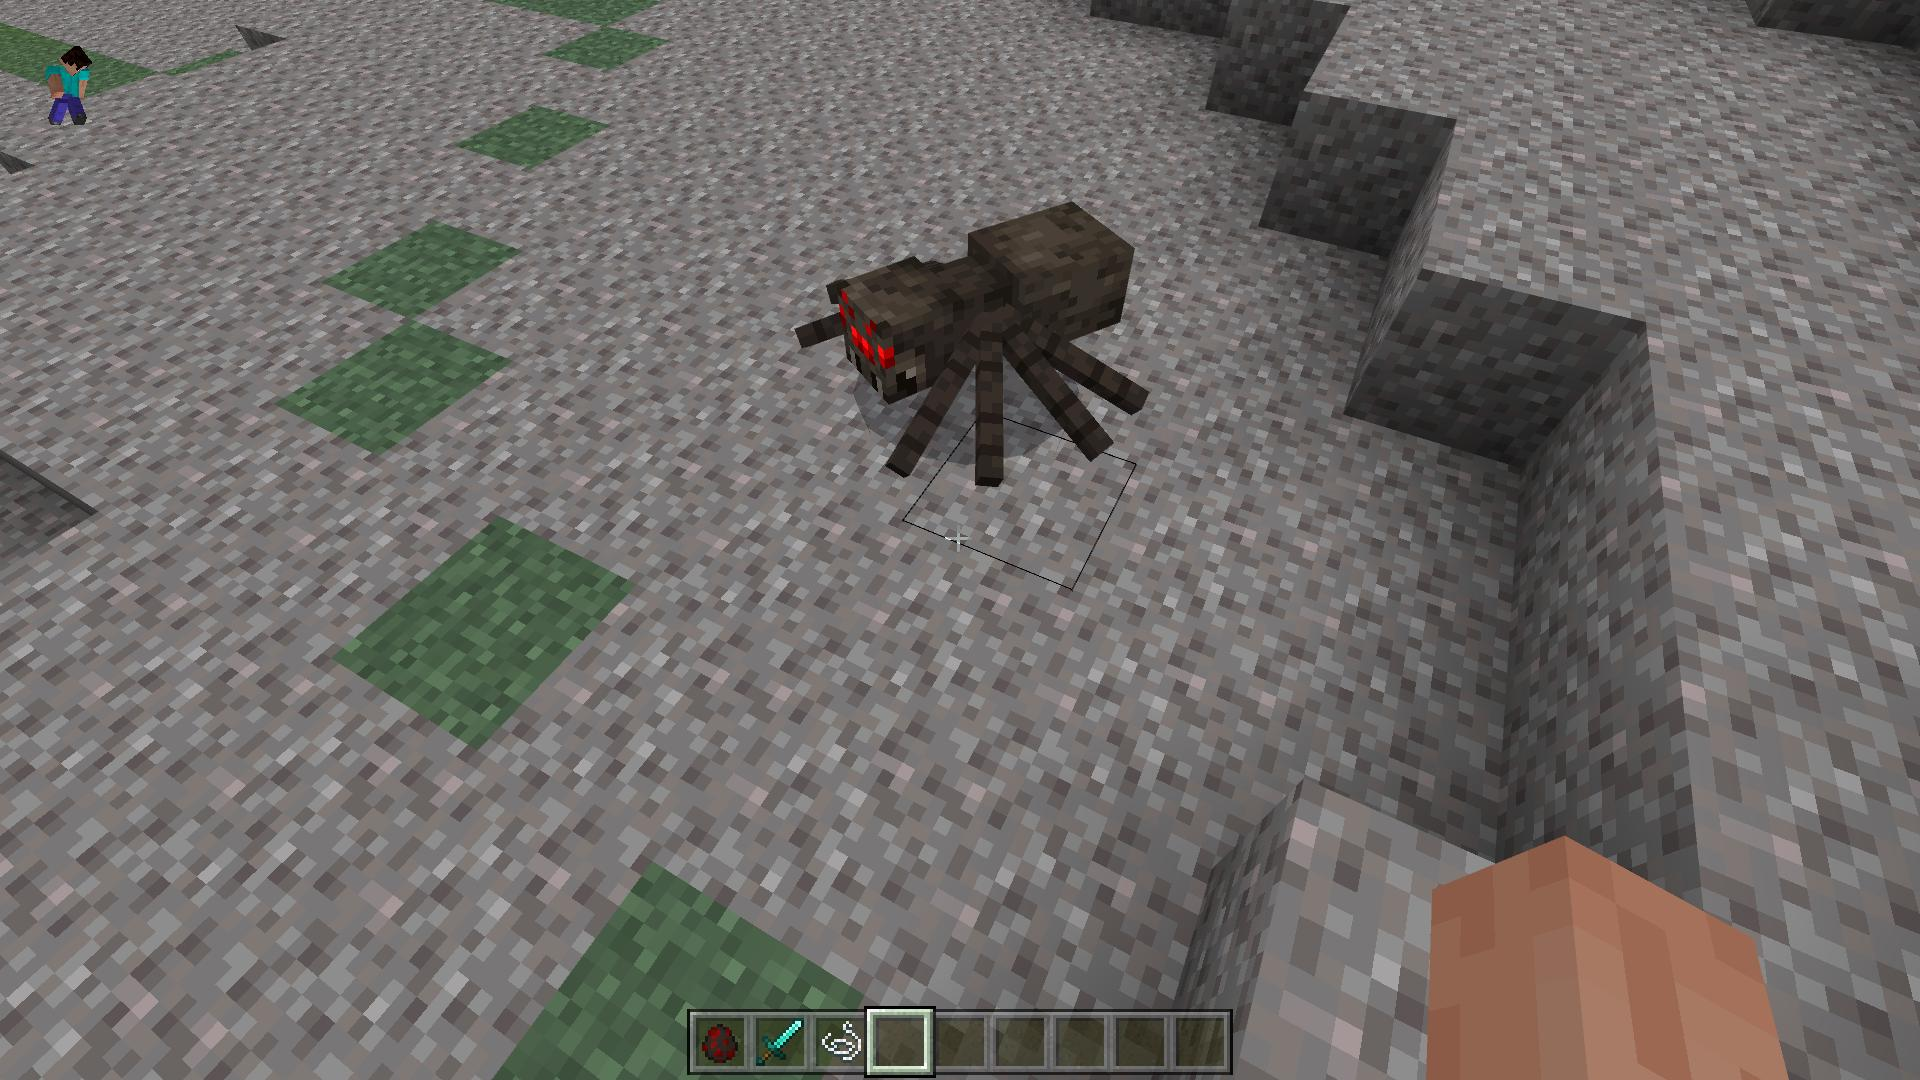spider: (794, 200, 1151, 492)
